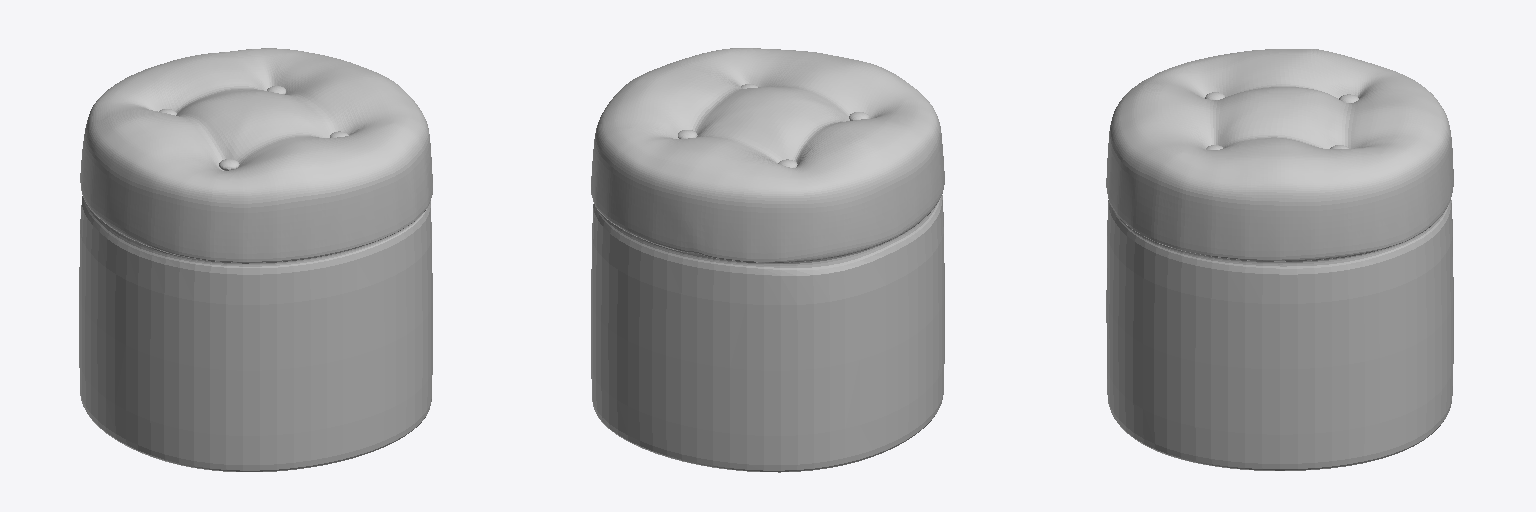
File: duka.obj
3 renders of one model, left to right at view 1: azimuth 30°, elevation 25°; view 2: azimuth 150°, elevation 25°; view 3: azimuth 270°, elevation 25°, orthographic.
Visible parts, largest first — view 1: Cube.002_Cube.003; view 2: Cube.002_Cube.003; view 3: Cube.002_Cube.003.
Boxes of the visible parts, box(x1,y1,x2,y2) form: Cube.002_Cube.003: box(79, 48, 432, 471); Cube.002_Cube.003: box(591, 48, 944, 472); Cube.002_Cube.003: box(1106, 49, 1453, 470).
Bounding box in the file's own units: 0.4715 × 0.4629 × 0.4719.